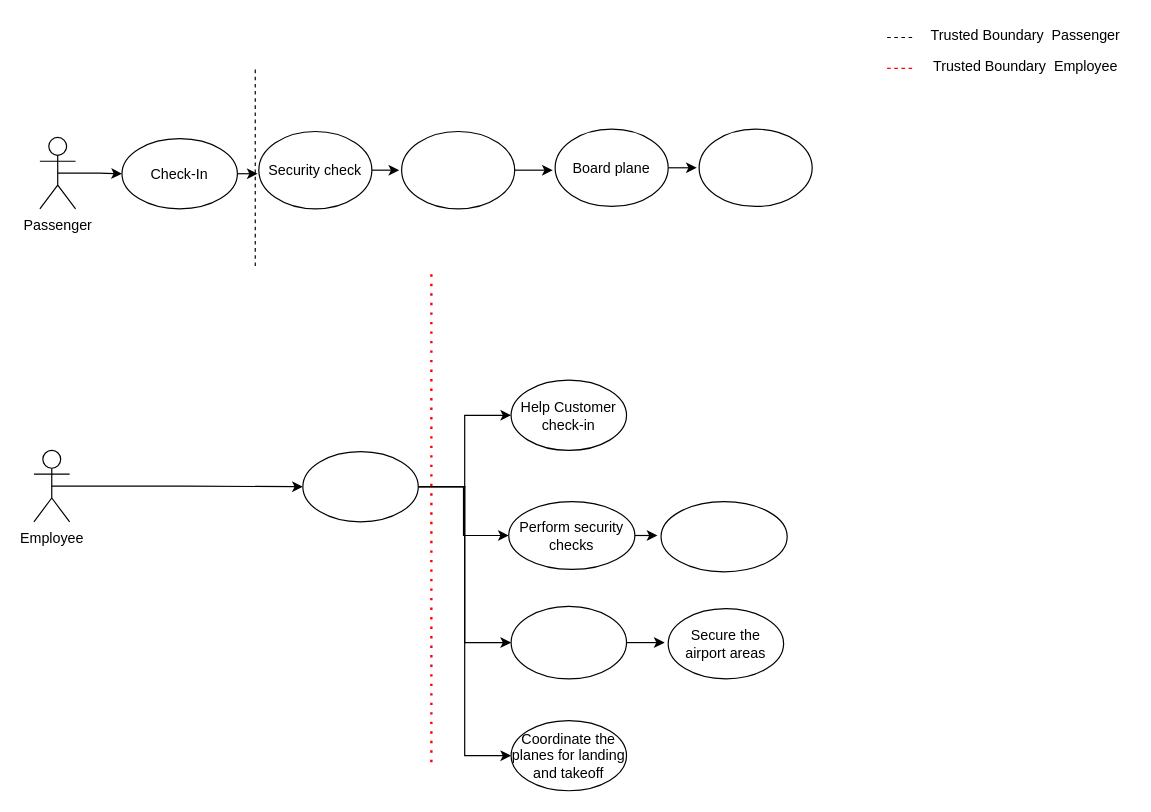
This 1151x812 diagram has some shape labels left out. The centre of each missing label's shape, as x and y in pixels:
Access to restricted areas: [568,642]
authenticate: [360,486]
Fly: [755,167]
Immigration control for Identity: [457,169]
Perform Identity check: [723,536]
